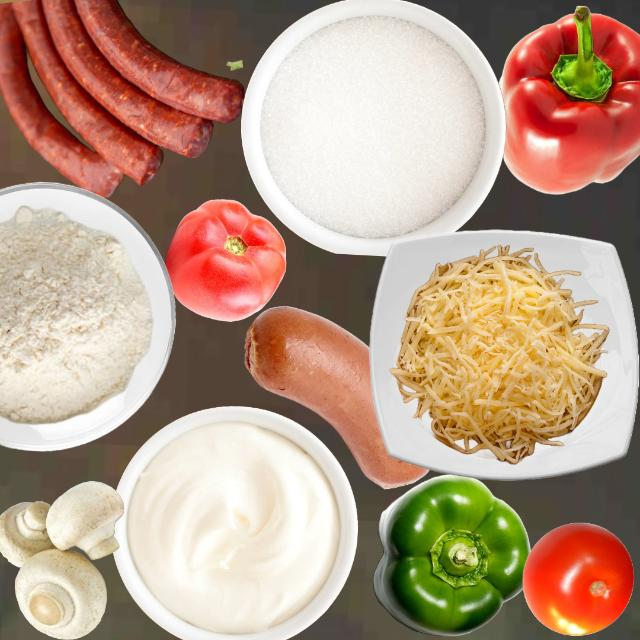Flour: (0, 192, 203, 445)
Sugar: (259, 13, 485, 238)
